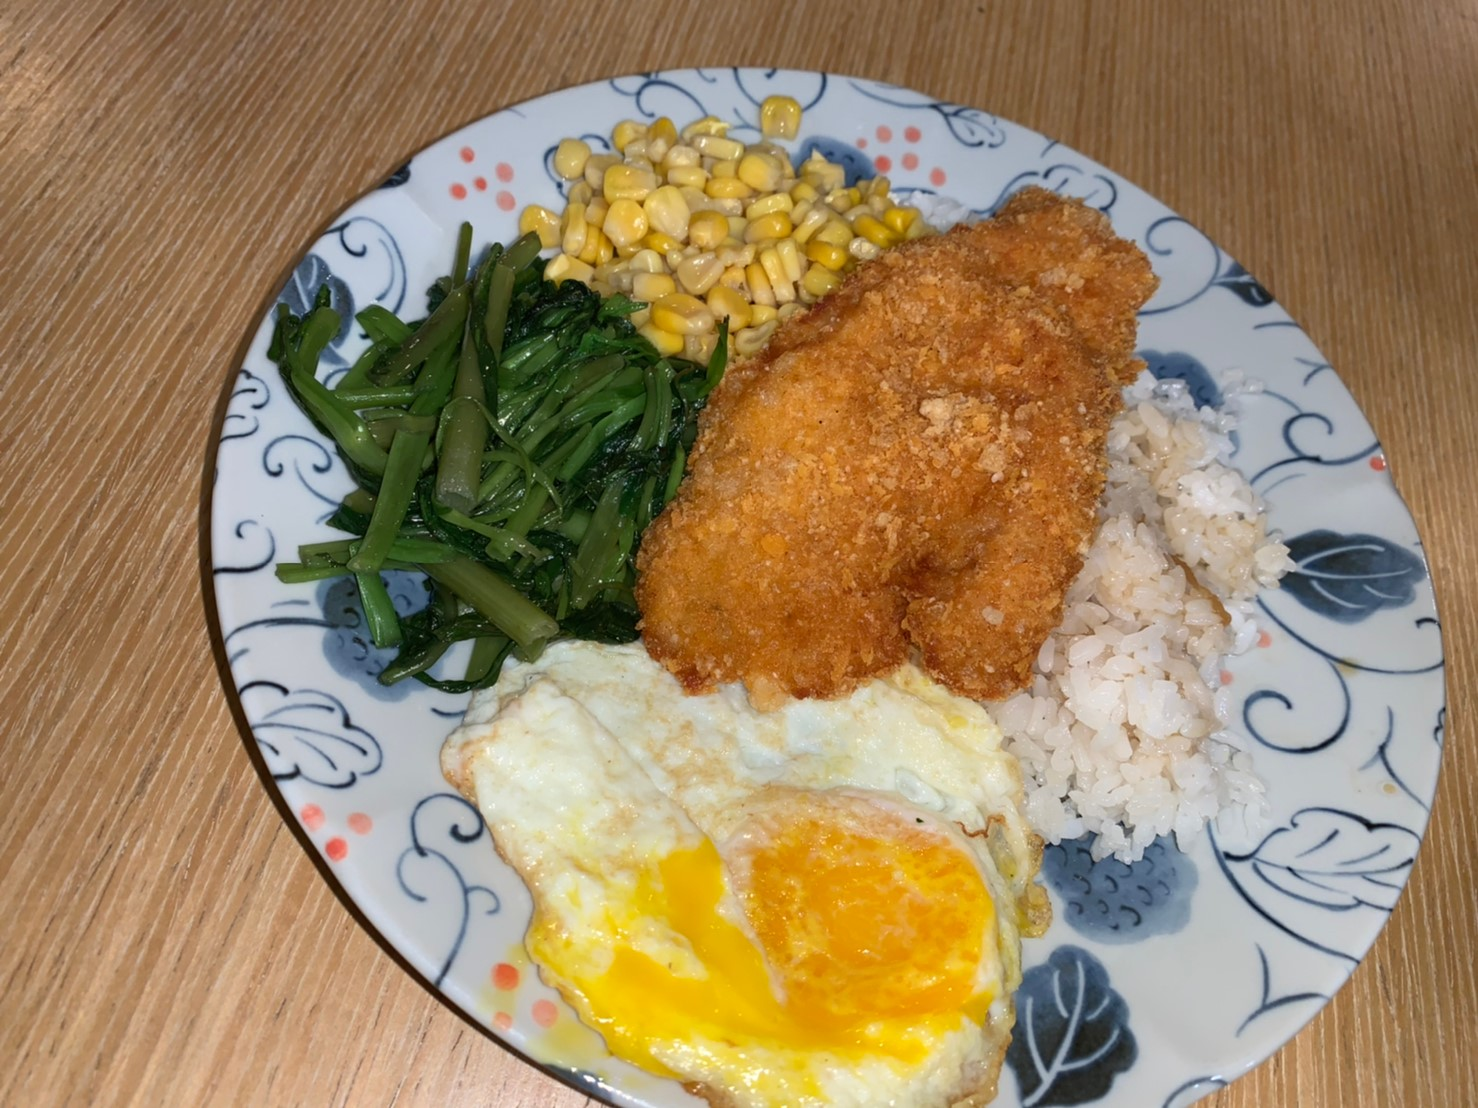fried_chicken: (669, 185, 1134, 686)
fried_eggs: (466, 668, 1030, 1108)
rice: (1039, 416, 1262, 841)
water_spinach: (318, 267, 678, 645)
